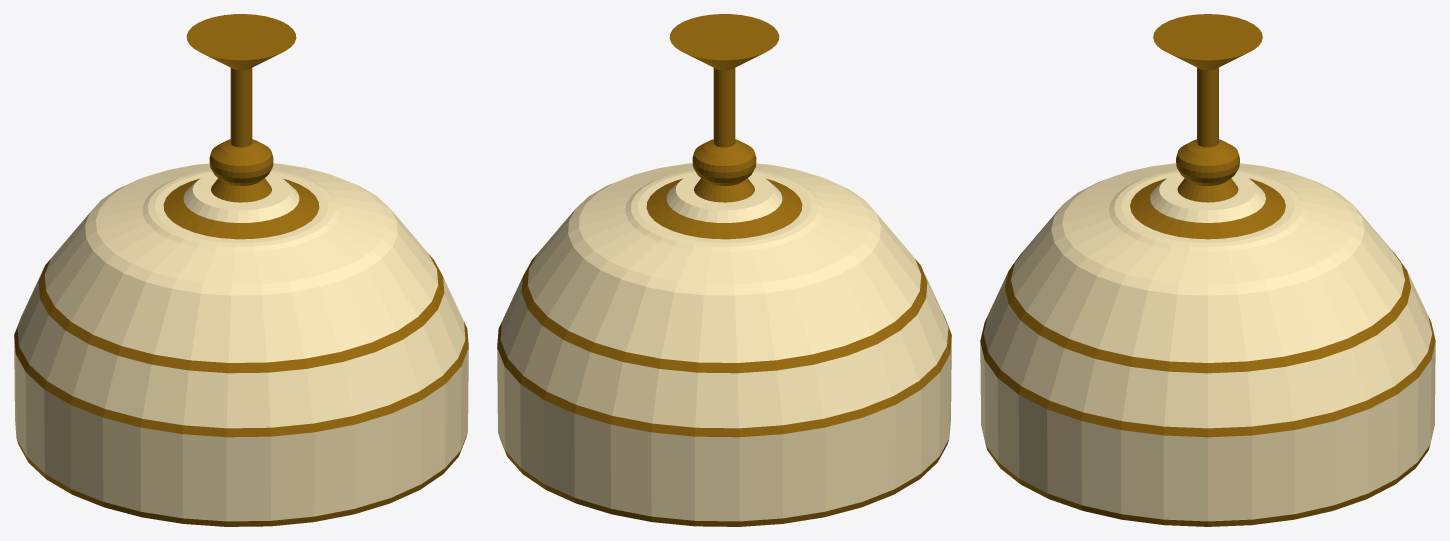
Rendered from Lamp.fbx.
3 views of the same model, side by side, from view 1: azimuth 30°, elevation 25°; view 2: azimuth 150°, elevation 25°; view 3: azimuth 270°, elevation 25° (orthographic).
Visible parts, largest first — view 1: Cylinder, Cylinder.001; view 2: Cylinder, Cylinder.001; view 3: Cylinder, Cylinder.001.
Part boxes in pixels (<box>): Cylinder: <box>14,163,468,526</box>; Cylinder.001: <box>186,14,296,202</box>; Cylinder: <box>497,163,951,526</box>; Cylinder.001: <box>669,14,779,202</box>; Cylinder: <box>980,163,1435,526</box>; Cylinder.001: <box>1153,14,1262,202</box>.
Bounding box in the file's own units: 249 × 238 × 249.
